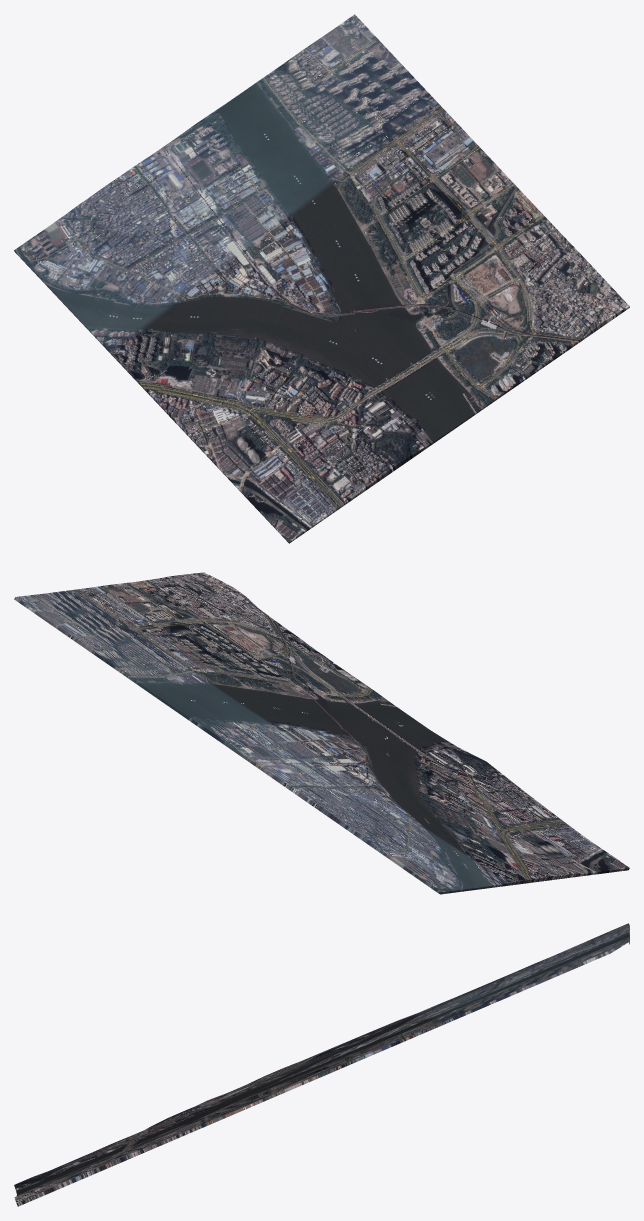
3 views of the same model, one above another, from view 1: azimuth 30°, elevation 25°; view 2: azimuth 150°, elevation 25°; view 3: azimuth 270°, elevation 25° (orthographic). The views are drawn at different scales.
Parts seen in each view (by area): view 1: 2_1_0; view 2: 2_1_0; view 3: 2_1_0.
Boxes of the visible parts, x1=… form: 2_1_0: x1=14, y1=14, x2=629, y2=543; 2_1_0: x1=14, y1=572, x2=629, y2=894; 2_1_0: x1=14, y1=923, x2=629, y2=1206.
Bounding box in the file's own units: 2449 × 1776 × 2252.
1 material, 1 textured.
